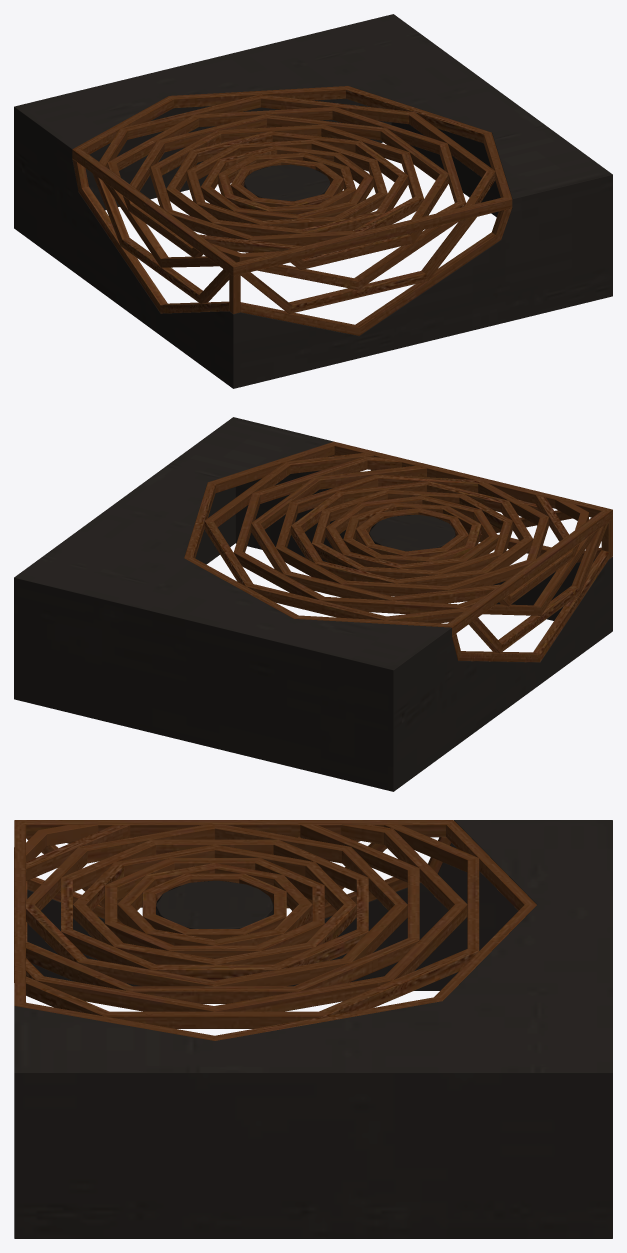
File: coffee-table-square.glb
3 renders of one model, top to bottom at view 1: azimuth 30°, elevation 25°; view 2: azimuth 150°, elevation 25°; view 3: azimuth 270°, elevation 25°, orthographic. The views are drawn at different scales.
Visible parts, largest first — view 1: modern_coffee_table_02; view 2: modern_coffee_table_02; view 3: modern_coffee_table_02.
Boxes of the visible parts, box(x1,y1,x2,y2) form: modern_coffee_table_02: box(14, 14, 612, 388); modern_coffee_table_02: box(14, 417, 612, 791); modern_coffee_table_02: box(14, 820, 612, 1238).
Bounding box in the file's own units: 1.2 × 0.3692 × 1.2.
2 materials, 2 textured.
